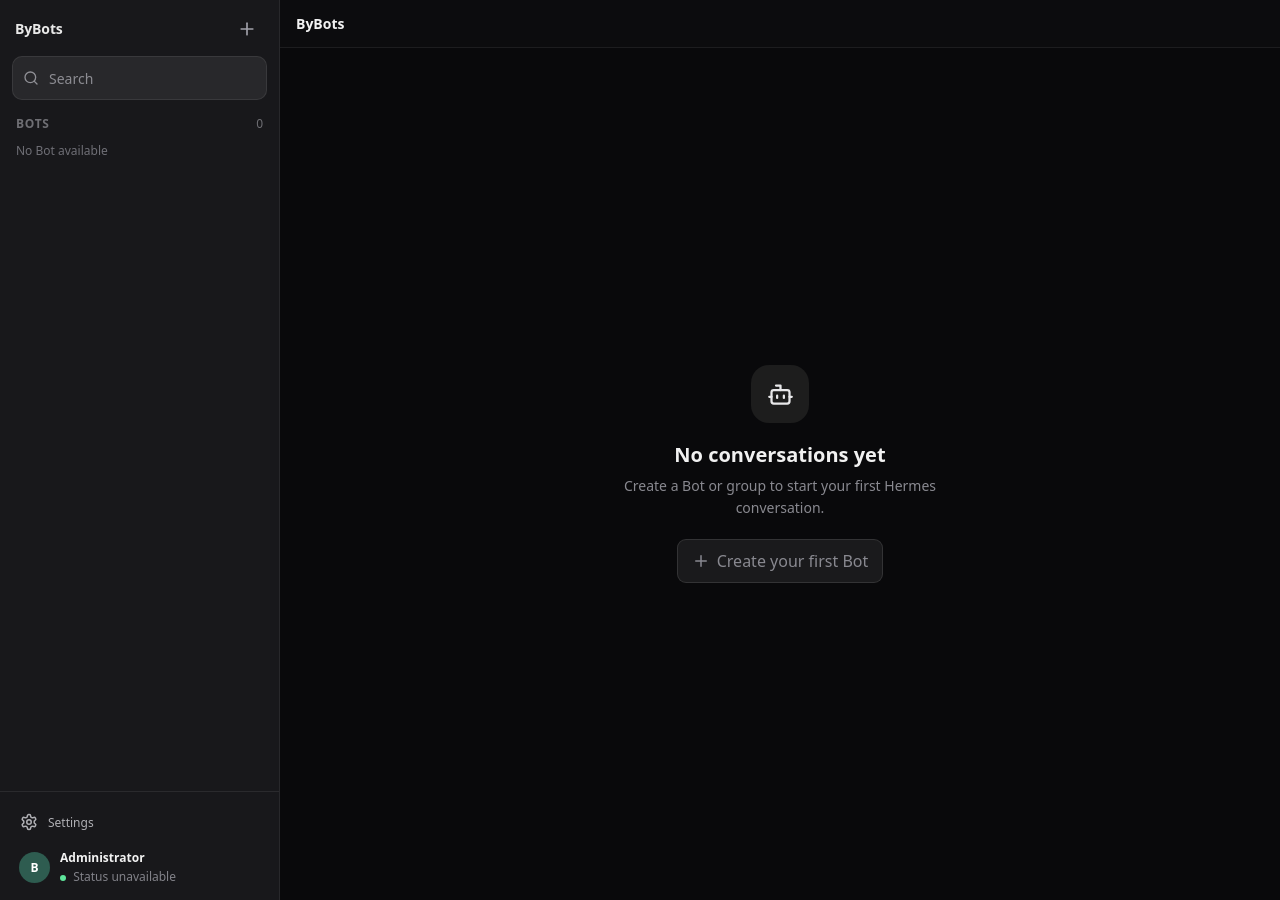
Scenario: preselects the saved main gateway when creating a Bot
The image size is (1280, 900).
Click the button named "New Bot": (247, 29) [225,7,269,51]
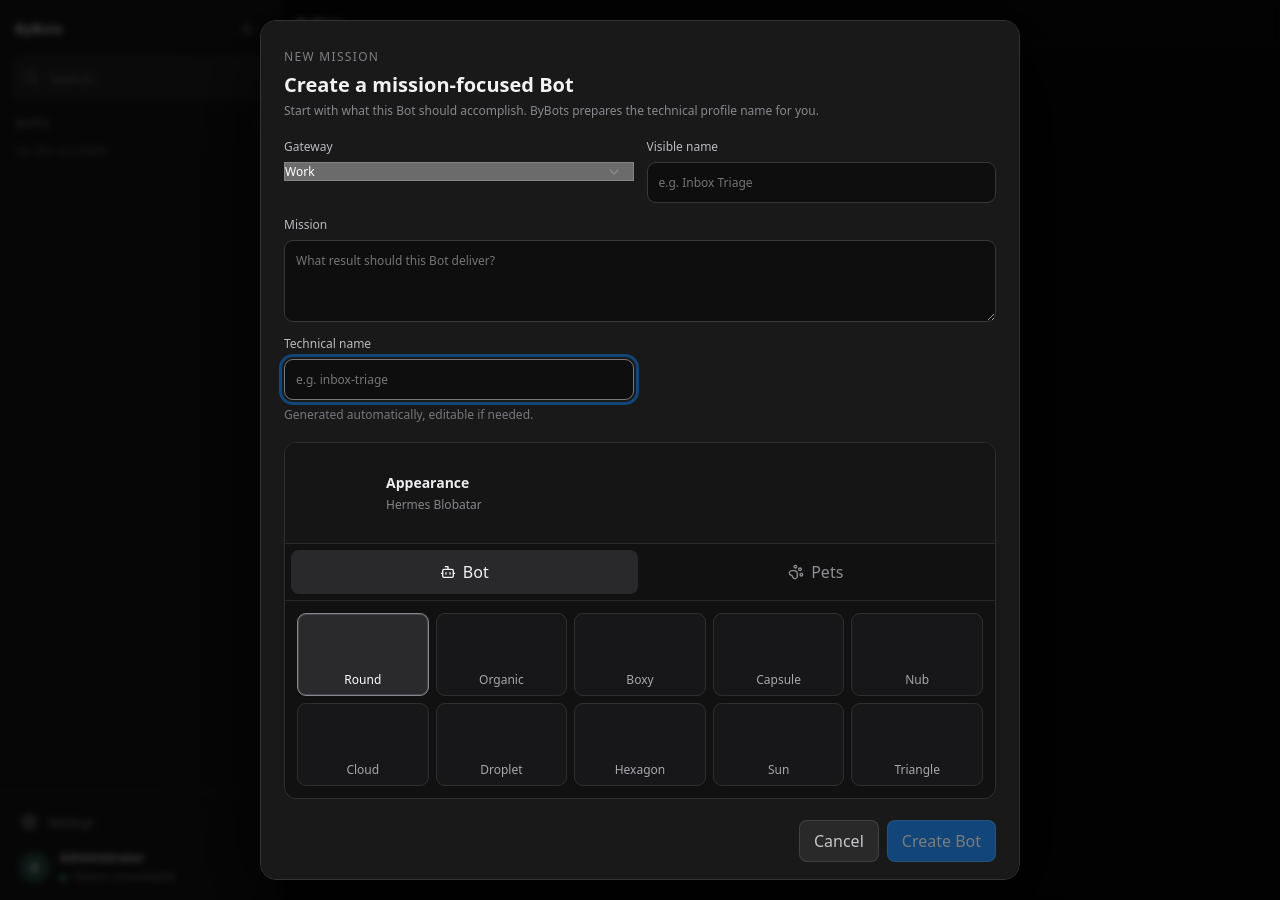
Expected: the dropdown labelled "Gateway" shows "Work", [284,162,634,181]
